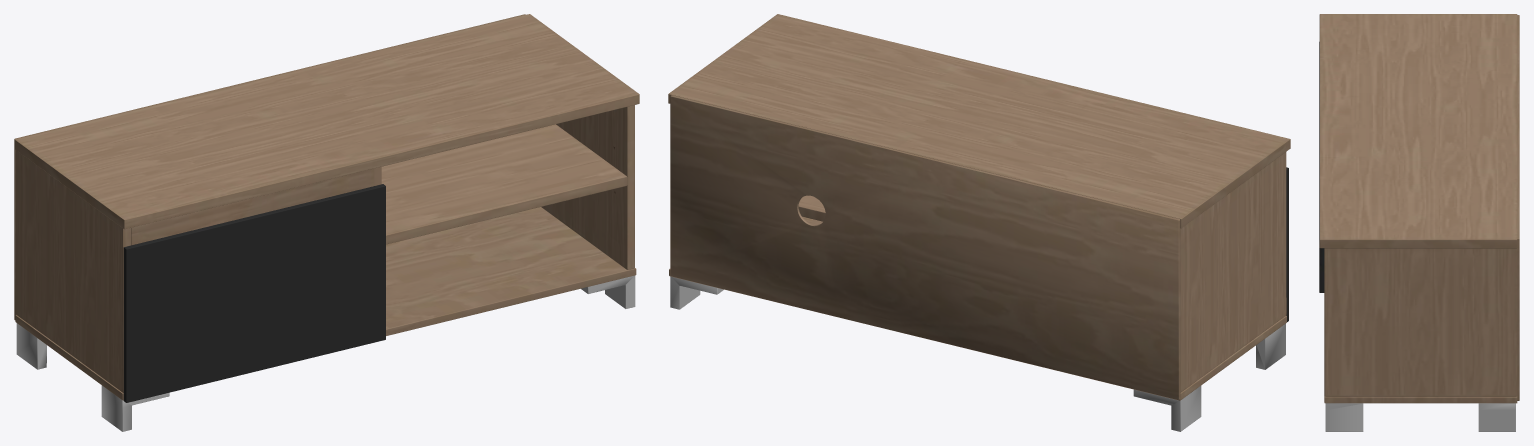
The model's file is tv_stand_abo_B079YW5F4Y.glb.
3 views of the same model, side by side, from view 1: azimuth 30°, elevation 25°; view 2: azimuth 150°, elevation 25°; view 3: azimuth 270°, elevation 25° (orthographic). The views are drawn at different scales.
Parts seen in each view (by area): view 1: RootNode; view 2: RootNode; view 3: RootNode.
Boxes of the visible parts, left/top/right/bottom form: RootNode: left=14, top=14, right=639, bottom=431; RootNode: left=668, top=14, right=1290, bottom=431; RootNode: left=1319, top=14, right=1519, bottom=431.
Bounding box in the file's own units: 1.08 × 0.4318 × 0.4059.
Materials: 1 (1 with a texture image).
